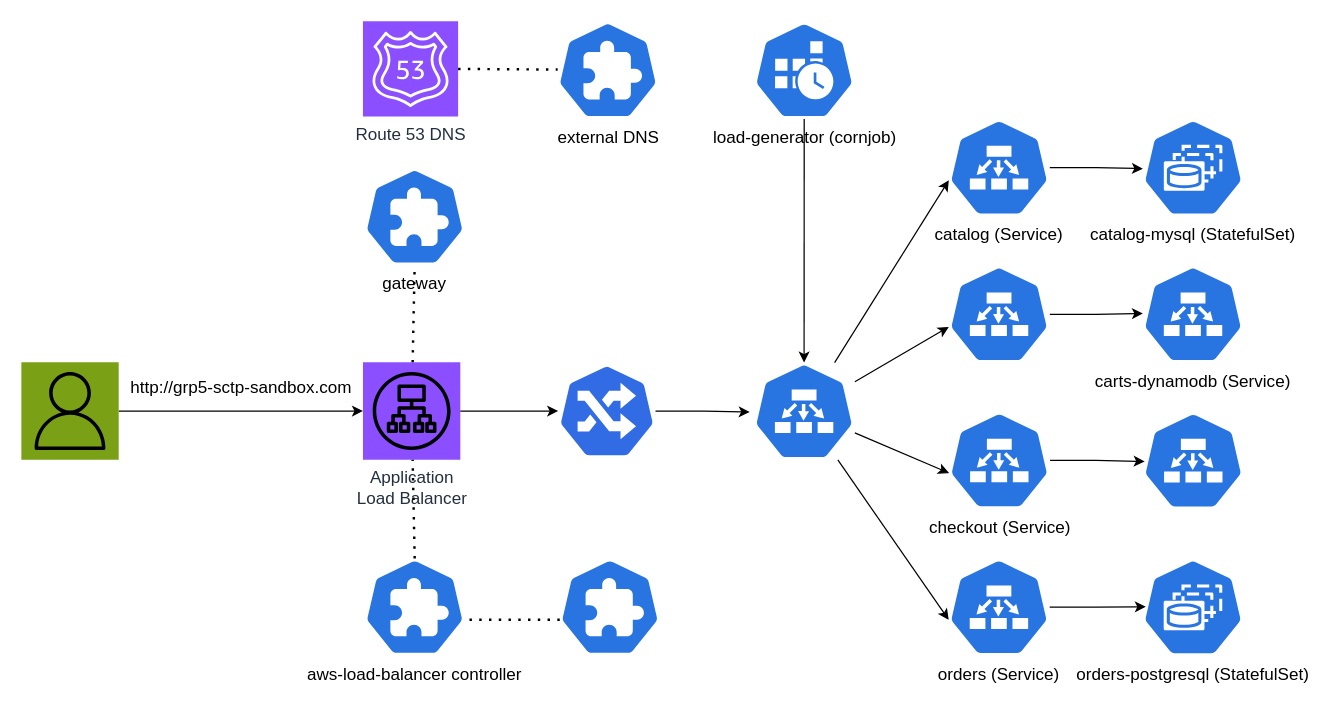
Some shapes in this 1330 by 706 pixel diagram are drawn without their labels. The box of each missing label's shape, as (x1, y1, x2, y2) in pixels:
carts (Service): (947, 264, 1050, 363)
checkout-redis (Service): (1141, 411, 1244, 509)
gatewayclass: (558, 557, 661, 656)
HTTPRoute: (558, 362, 655, 459)
Shopper: (21, 362, 118, 459)
ui (Service): (752, 361, 855, 460)
